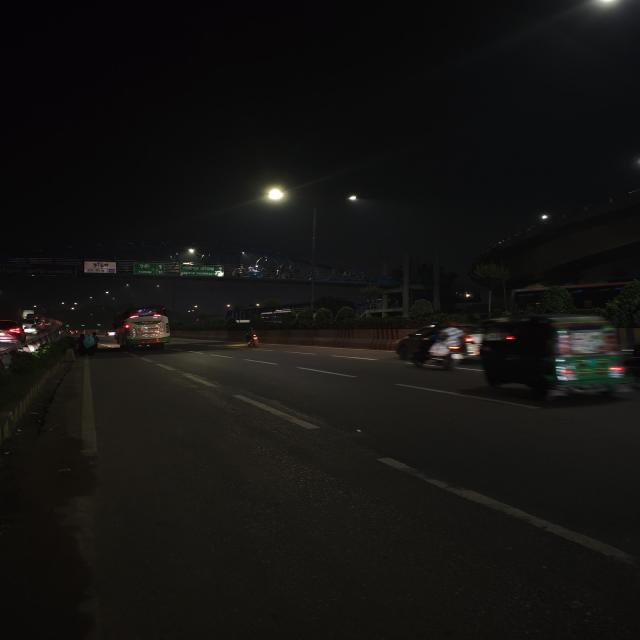bus: (110, 306, 181, 356)
cng: (478, 312, 618, 400)
motorcycle: (416, 317, 470, 375), (233, 324, 269, 348)
